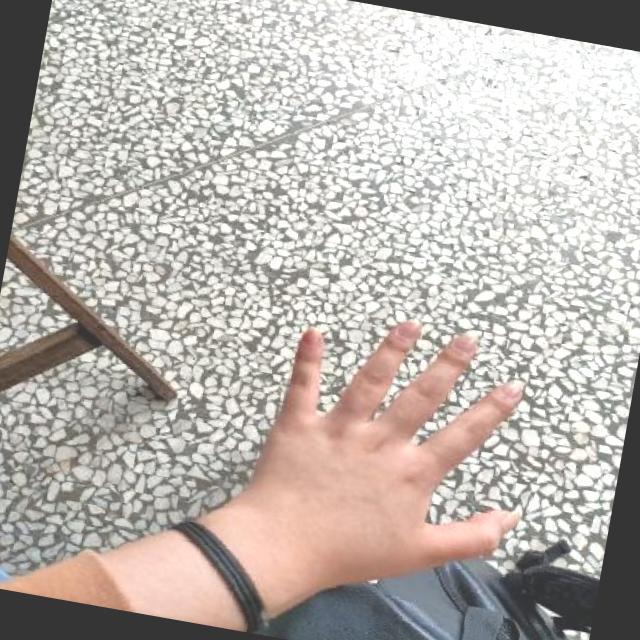Hand: (210, 320, 524, 604)
